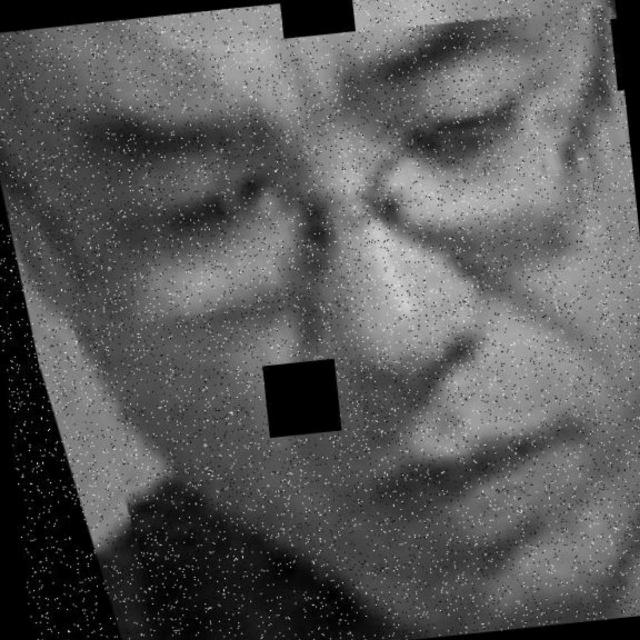Sad: (40, 63, 640, 640)
